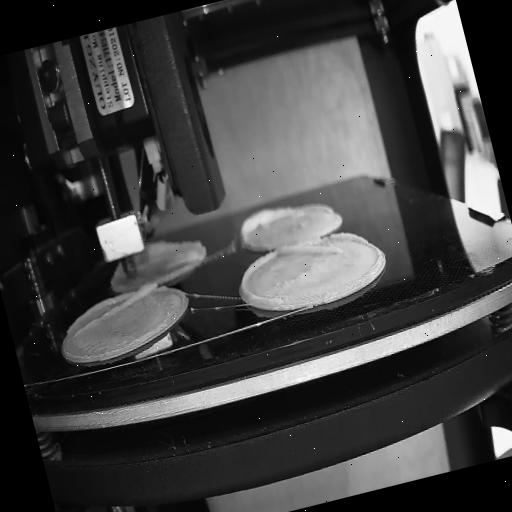over_extrusion: (67, 280, 167, 338), (275, 226, 371, 270), (234, 200, 302, 248), (234, 250, 286, 312), (146, 232, 204, 262), (300, 198, 336, 222)
